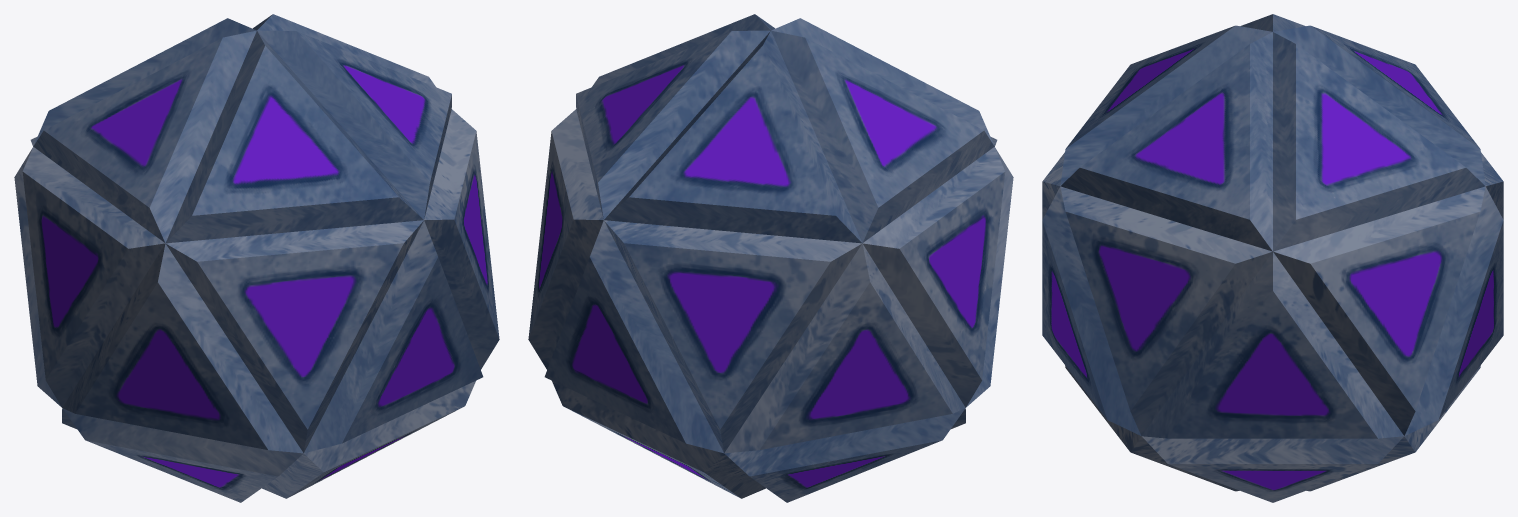
File: Grenade.fbx
3 renders of one model, left to right at view 1: azimuth 30°, elevation 25°; view 2: azimuth 150°, elevation 25°; view 3: azimuth 270°, elevation 25°, orthographic.
Parts seen in each view (by area): view 1: Grenade; view 2: Grenade; view 3: Grenade.
Boxes of the visible parts, x1=… form: Grenade: x1=14, y1=14, x2=499, y2=502; Grenade: x1=528, y1=14, x2=1013, y2=502; Grenade: x1=1042, y1=14, x2=1503, y2=502.
Size of the model in its own units: 19.4 by 20.12 by 18.45.
